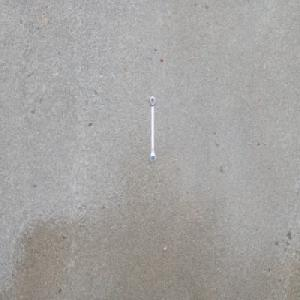Wrench: (148, 94, 156, 164)
